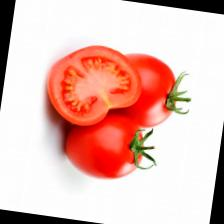tomato: (42, 39, 146, 133), (99, 50, 195, 134), (60, 107, 158, 186)
